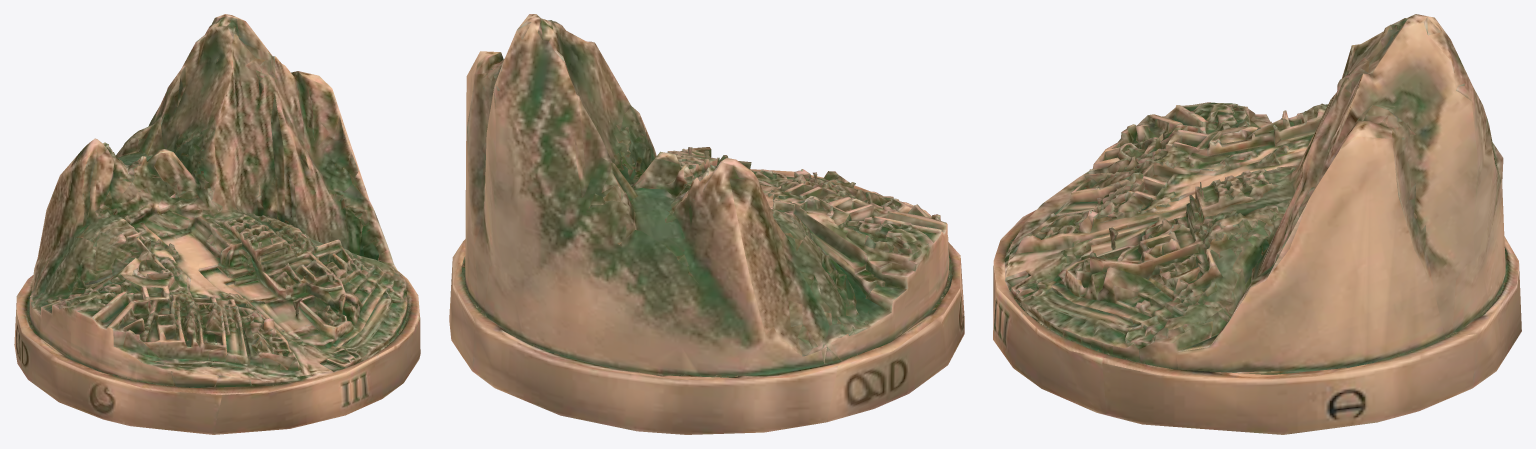
Rendered from machu_picchu.glb.
3 views of the same model, side by side, from view 1: azimuth 30°, elevation 25°; view 2: azimuth 150°, elevation 25°; view 3: azimuth 270°, elevation 25° (orthographic). The views are drawn at different scales.
Parts seen in each view (by area): view 1: Mesh_0; view 2: Mesh_0; view 3: Mesh_0.
Boxes of the visible parts, x1,y1,x2,y2 form: Mesh_0: (14, 14, 420, 434); Mesh_0: (449, 14, 964, 434); Mesh_0: (993, 14, 1521, 434).
Size of the model in its own units: 1.9 by 1.4 by 1.9.
Materials: 1 (1 with a texture image).
